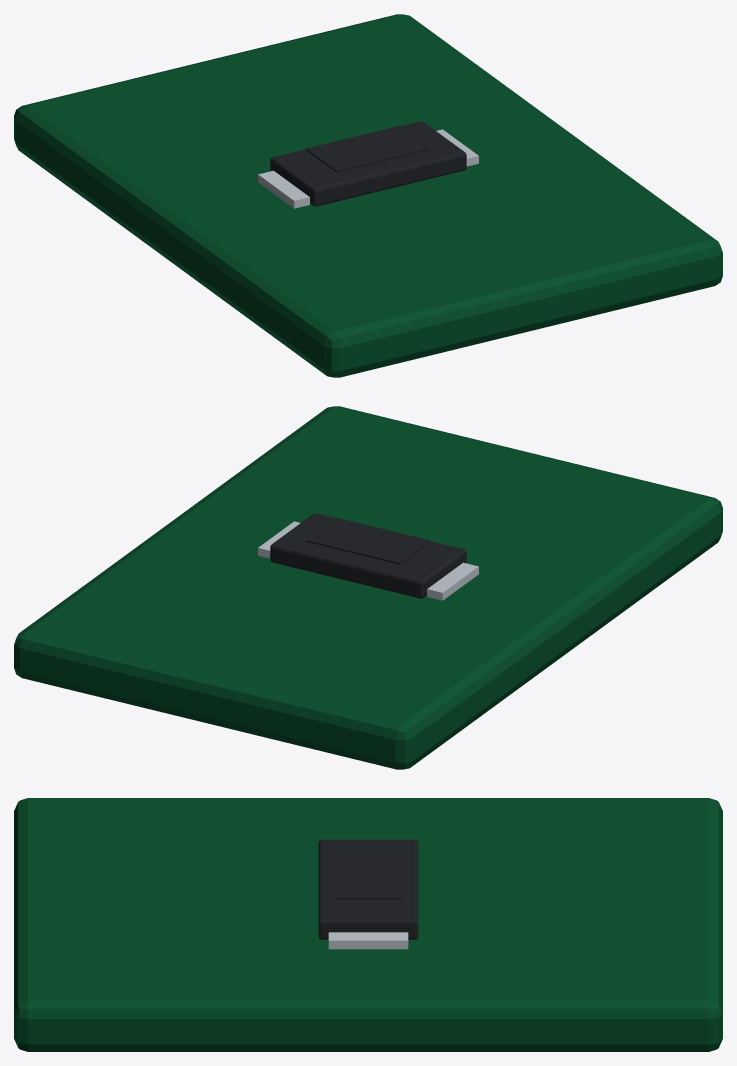
The model's file is tof_vl53l1x_pololu.glb.
3 renders of one model, top to bottom at view 1: azimuth 30°, elevation 25°; view 2: azimuth 150°, elevation 25°; view 3: azimuth 270°, elevation 25°, orthographic. The views are drawn at different scales.
Visible parts, largest first — view 1: part_tof_vl53l1x_pololu__pcb, part_tof_vl53l1x_pololu__black_polymer, part_tof_vl53l1x_pololu__steel; view 2: part_tof_vl53l1x_pololu__pcb, part_tof_vl53l1x_pololu__black_polymer, part_tof_vl53l1x_pololu__steel; view 3: part_tof_vl53l1x_pololu__pcb, part_tof_vl53l1x_pololu__black_polymer, part_tof_vl53l1x_pololu__steel.
Part boxes in pixels (box(x1,y1,x2,y2)): part_tof_vl53l1x_pololu__pcb: box(14, 14, 722, 377); part_tof_vl53l1x_pololu__black_polymer: box(270, 121, 466, 206); part_tof_vl53l1x_pololu__steel: box(258, 129, 478, 208); part_tof_vl53l1x_pololu__pcb: box(14, 406, 722, 769); part_tof_vl53l1x_pololu__black_polymer: box(270, 513, 466, 598); part_tof_vl53l1x_pololu__steel: box(258, 521, 478, 600); part_tof_vl53l1x_pololu__pcb: box(14, 798, 722, 1051); part_tof_vl53l1x_pololu__black_polymer: box(318, 839, 418, 939); part_tof_vl53l1x_pololu__steel: box(328, 932, 408, 949).
Bounding box in the file's own units: 0.0127 × 0.00215 × 0.0178.
